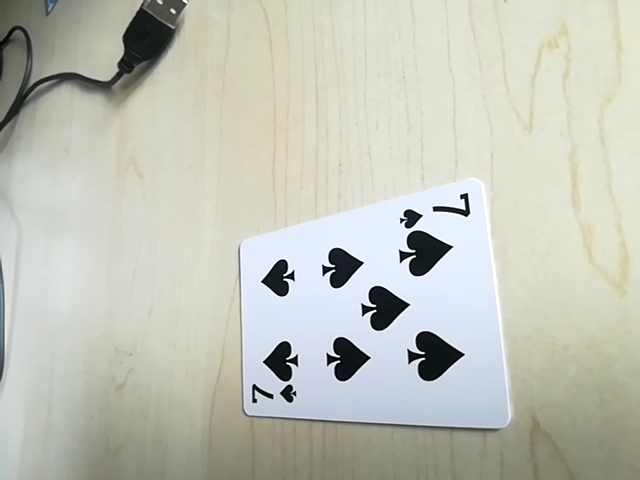ht 7: (396, 191, 479, 228), (244, 378, 300, 413)
